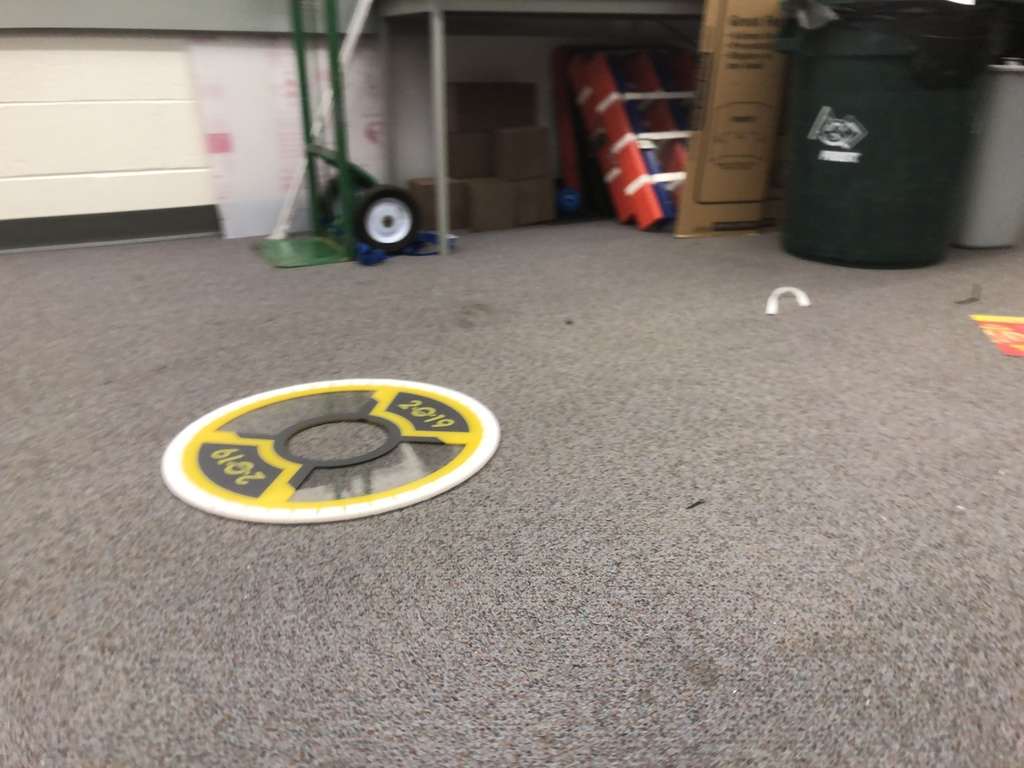hatch_panel: (146, 370, 511, 524)
